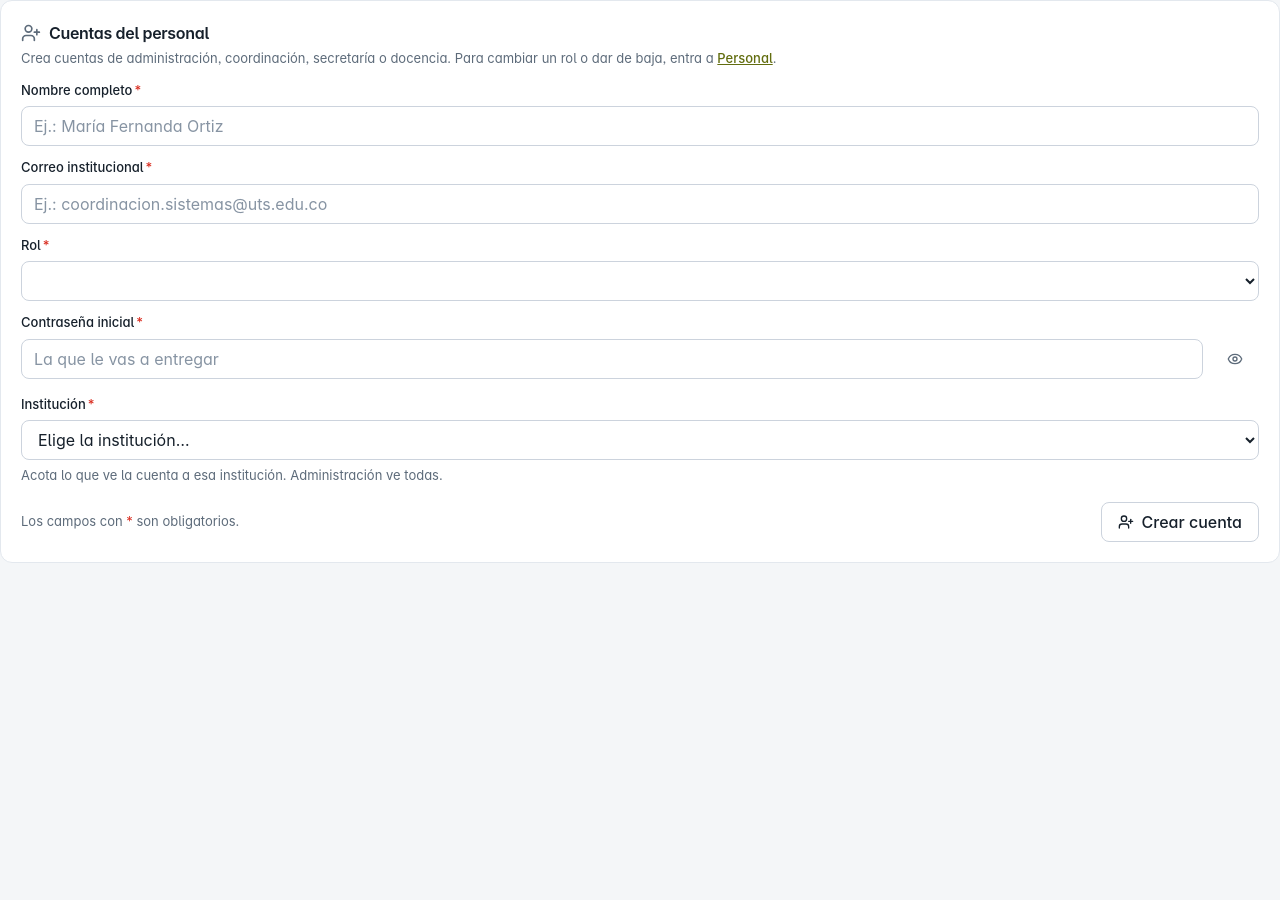
Test: alta de cuentas del personal › explica qué falta cuando se intenta crear con los ejemplos vacíos
Click the button "Crear cuenta" at (1180, 522), box [1101,502,1259,542]
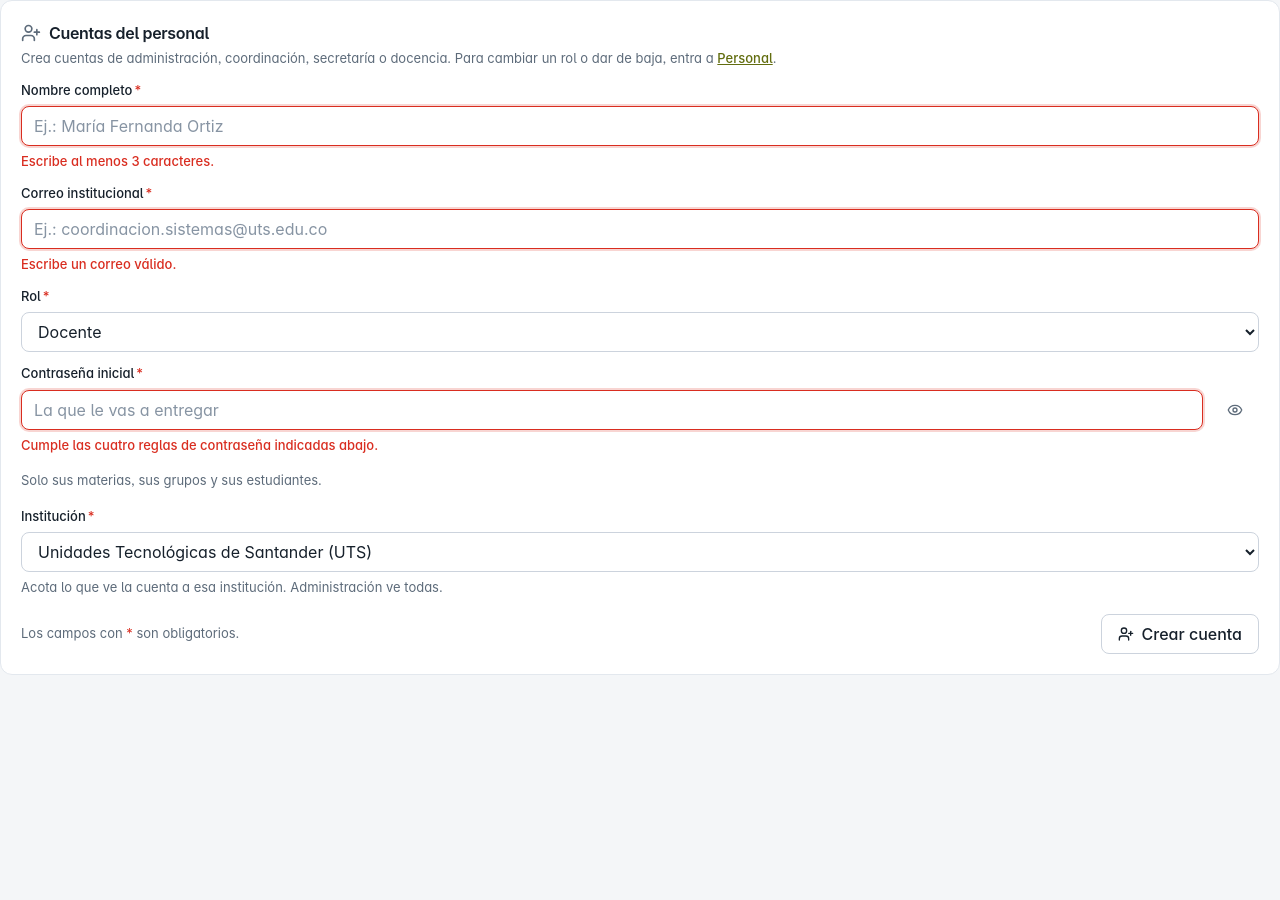
Result: the text "Escribe al menos 3 caracteres." is shown at [21,153,214,169]
Result: the text "Escribe un correo válido." is shown at [21,256,176,272]
Result: the text "Cumple las cuatro reglas de contraseña indicadas abajo." is shown at [21,436,378,452]
